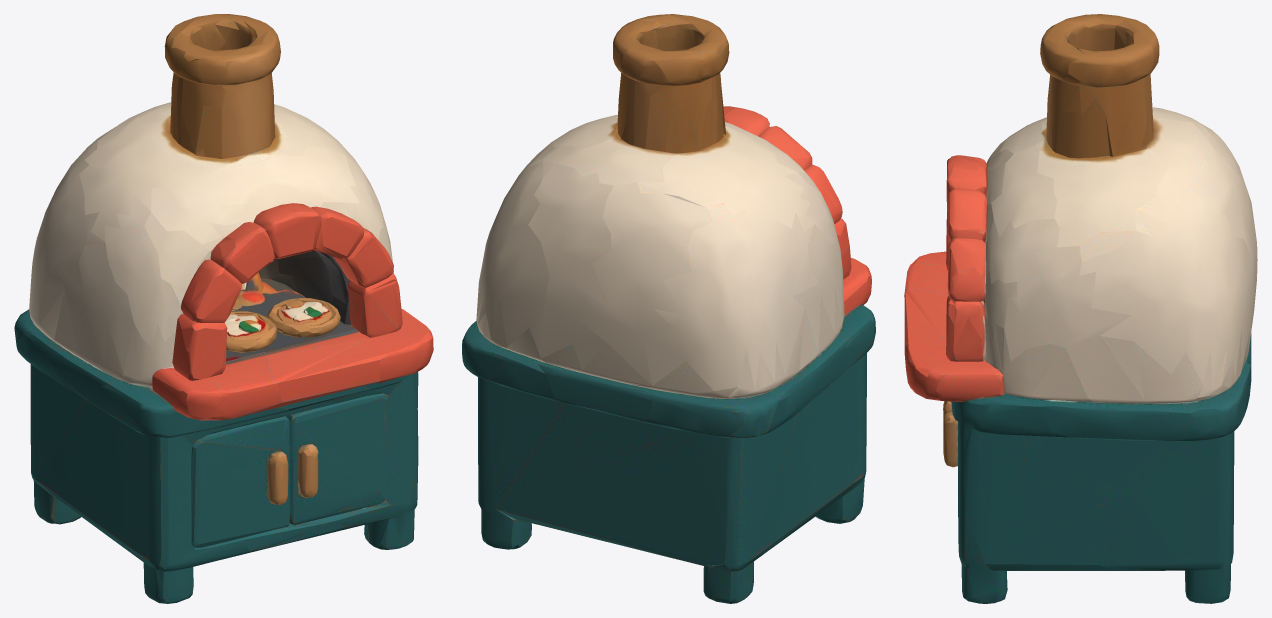
File: rounded-restaurant-pizza-oven-pizzas-baking.glb
The picture shows the model from 3 angles, left to right: view 1: azimuth 30°, elevation 25°; view 2: azimuth 150°, elevation 25°; view 3: azimuth 270°, elevation 25°; orthographic projection. The views are drawn at different scales.
Parts seen in each view (by area): view 1: Mesh_0; view 2: Mesh_0; view 3: Mesh_0.
Boxes of the visible parts, <box> form: Mesh_0: <box>14,14,433,603</box>; Mesh_0: <box>462,14,875,603</box>; Mesh_0: <box>904,14,1257,603</box>.
Size of the model in its own units: 1.18 by 1.8 by 1.14.
1 material, 1 textured.
